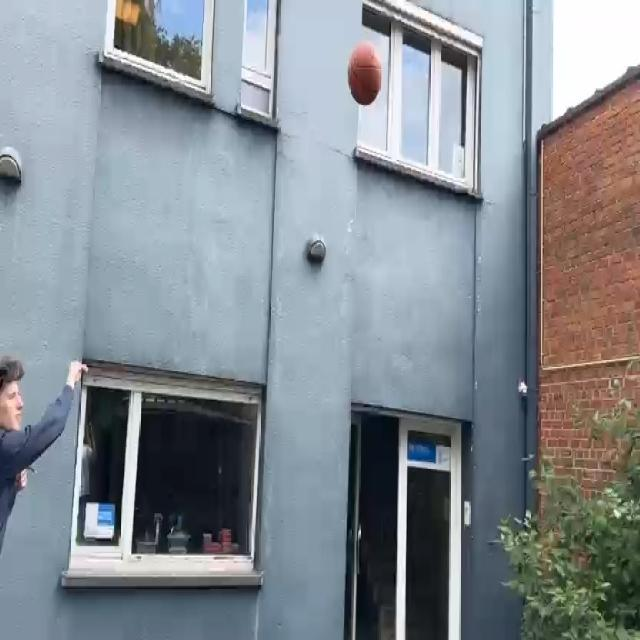Basketball: (349, 43, 383, 105)
